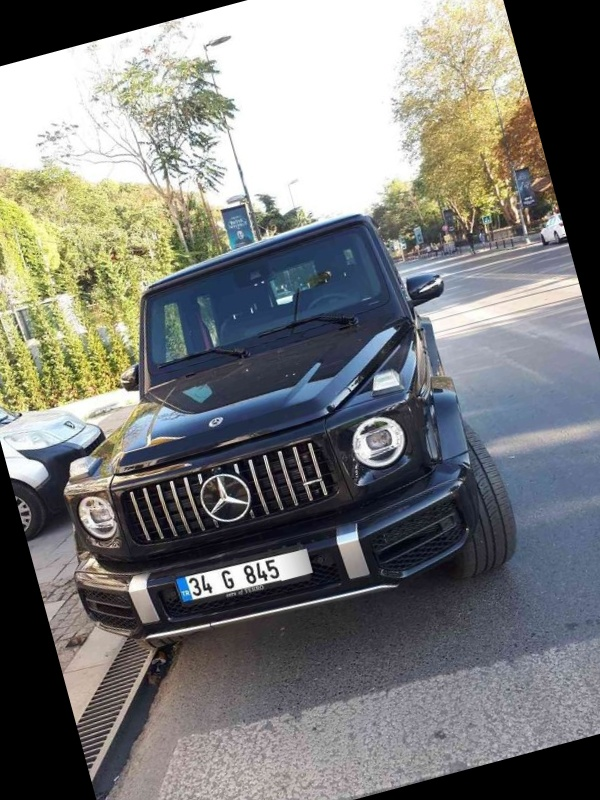plaka: (179, 556, 292, 599)
